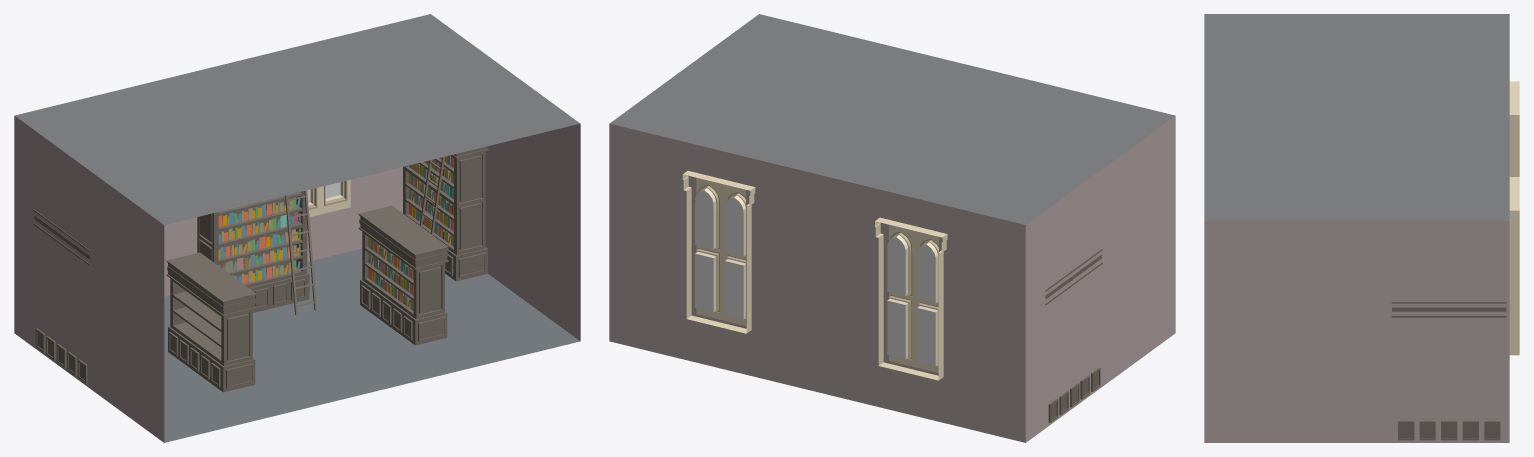
Rendered from LibraryFull 04.fbx.
3 renders of one model, left to right at view 1: azimuth 30°, elevation 25°; view 2: azimuth 150°, elevation 25°; view 3: azimuth 270°, elevation 25°, orthographic.
Visible parts, largest first — view 1: Buidling, BooksShelf6, BooksShelf3, Bookschelf2, Bookschelf1, Bookschelf3, Window6, BooksForShelf3, BooksForShelf4, BooksForShelf5, BooksForShelf2, BooksForShelf1; view 2: Buidling, Window6, Window4, Bookschelf3; view 3: Buidling, Bookschelf1, Window6, Window4.
Part boxes in pixels (x1,y1,x2,y2): Buidling: (14, 14, 580, 442); BooksShelf6: (166, 252, 256, 392); BooksShelf3: (358, 205, 448, 345); Bookschelf2: (197, 191, 309, 312); Bookschelf1: (403, 146, 488, 281); Bookschelf3: (33, 209, 90, 383); Window6: (307, 179, 350, 217); BooksForShelf3: (218, 228, 300, 259); BooksForShelf4: (218, 212, 300, 242); BooksForShelf5: (218, 197, 300, 227); BooksForShelf2: (218, 244, 300, 272); BooksForShelf1: (232, 260, 300, 284); Buidling: (609, 14, 1175, 442); Window6: (682, 171, 755, 333); Window4: (875, 217, 947, 380); Bookschelf3: (1045, 248, 1102, 422); Buidling: (1204, 14, 1509, 442); Bookschelf1: (1391, 302, 1506, 440); Window6: (1509, 177, 1519, 355); Window4: (1509, 81, 1519, 176).
Size of the model in its own units: 13.11 by 6.51 by 8.37.
